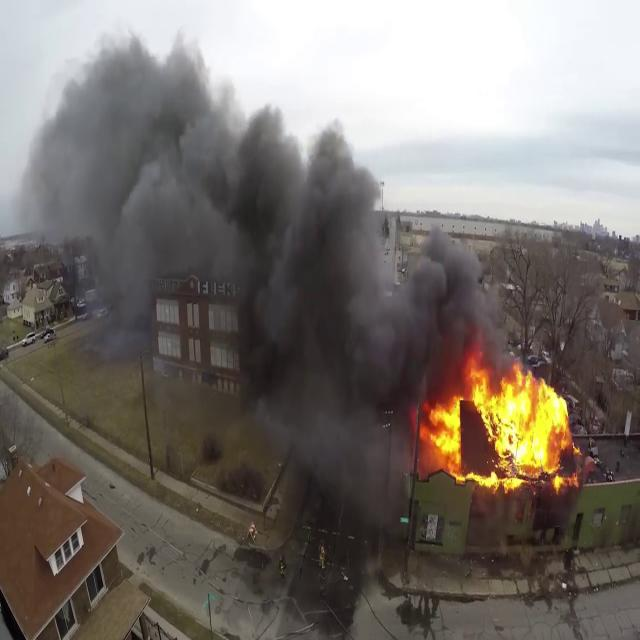Fire: (418, 353, 581, 491)
Smoke: (224, 82, 496, 424), (23, 16, 251, 326)
